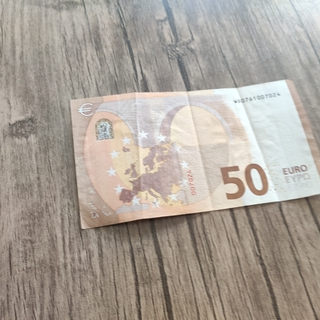50EUROBack: (67, 77, 320, 230)
